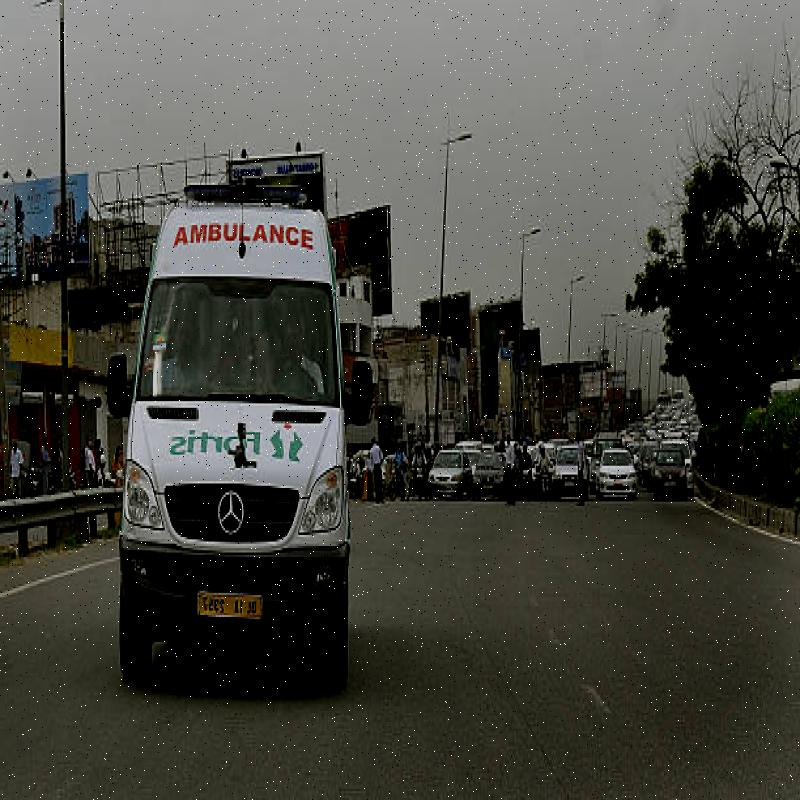ambulance: (89, 180, 371, 693)
